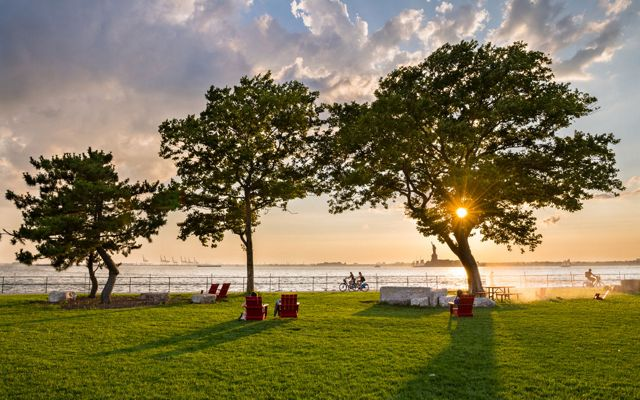tree: (316, 39, 628, 298), (153, 68, 328, 298), (1, 147, 169, 304)
